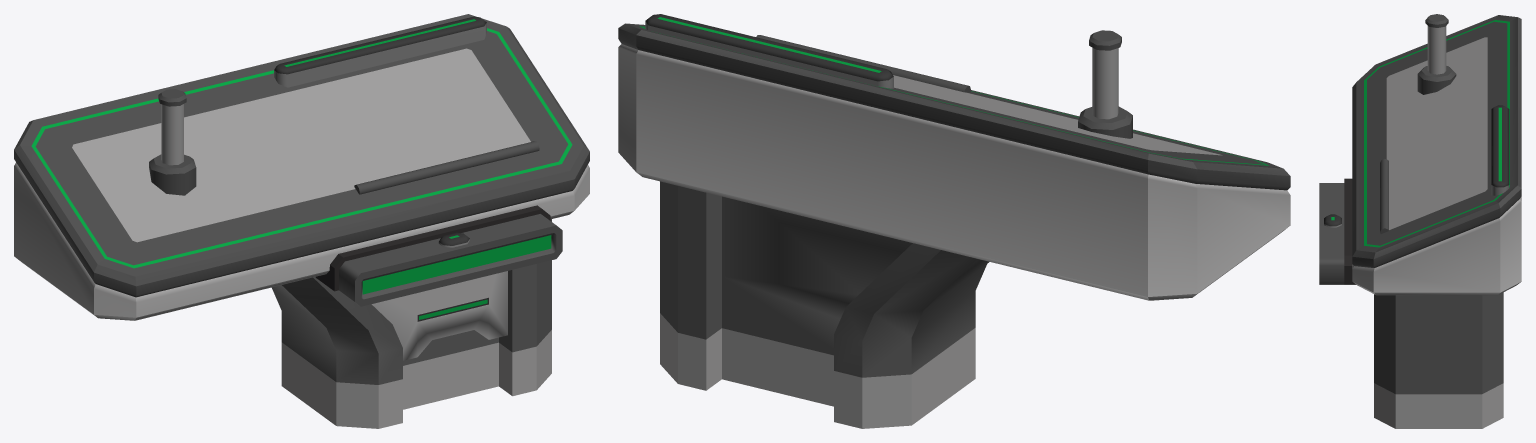
The model's file is Terminal_010.fbx.
3 renders of one model, left to right at view 1: azimuth 30°, elevation 25°; view 2: azimuth 150°, elevation 25°; view 3: azimuth 270°, elevation 25°, orthographic. The views are drawn at different scales.
Parts seen in each view (by area): view 1: Terminal_010; view 2: Terminal_010; view 3: Terminal_010.
Part boxes in pixels (bbox=[...]): Terminal_010: bbox=[14, 14, 589, 428]; Terminal_010: bbox=[618, 14, 1290, 428]; Terminal_010: bbox=[1319, 14, 1521, 428].
Bounding box in the file's own units: 204 × 91.31 × 137.
